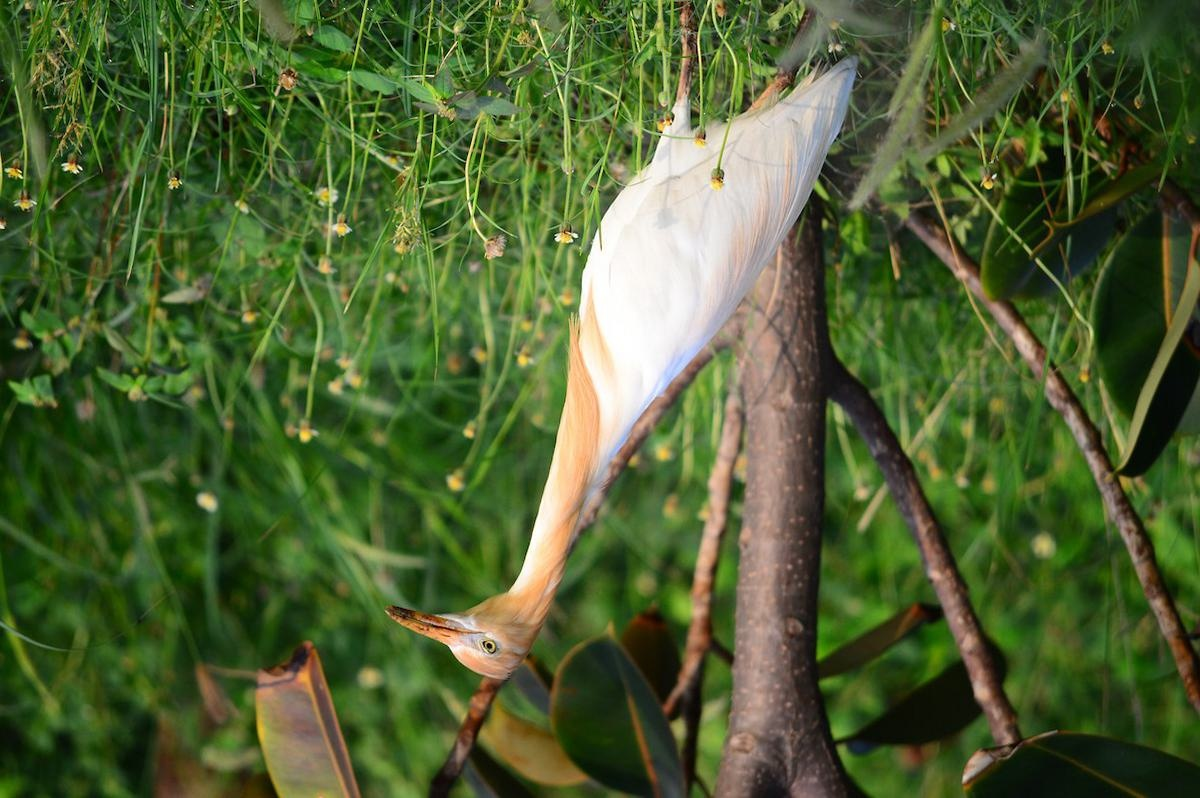egret: (378, 69, 863, 711)
